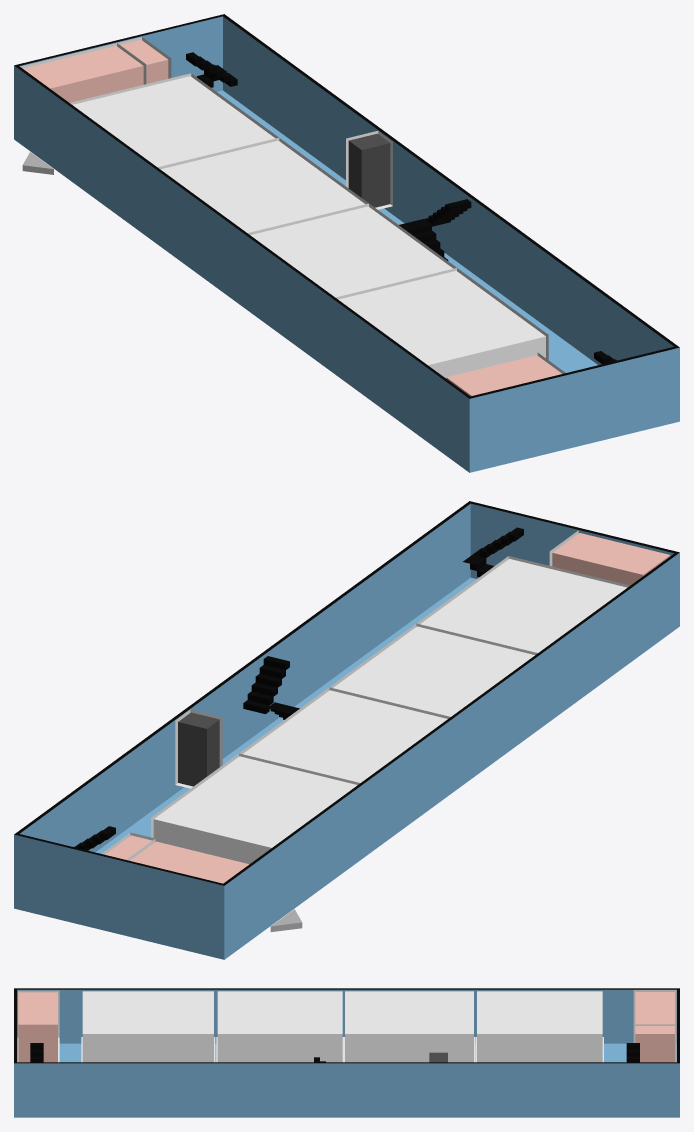
3 renders of one model, top to bottom at view 1: azimuth 30°, elevation 25°; view 2: azimuth 150°, elevation 25°; view 3: azimuth 270°, elevation 25°, orthographic. The views are drawn at different scales.
Visible parts, largest first — view 1: object, room_8_1_1, room_8_1_3, room_8_1_4, room_8_1_2, トイレ_8_1_1, エレベーター_8_1_1, トイレ_8_1_2, 階段_8_1_3, トイレ_8_1_3, object_line.001, 階段_8_1_2 (+3 smaller); view 2: object, room_8_1_4, room_8_1_1, room_8_1_3, room_8_1_2, トイレ_8_1_2, エレベーター_8_1_1, トイレ_8_1_1, 階段_8_1_3, 階段_8_1_1, object_line.004, object_line.001 (+2 smaller); view 3: object, room_8_1_1, room_8_1_4, room_8_1_2, room_8_1_3, トイレ_8_1_2, トイレ_8_1_3, トイレ_8_1_1, object_line.005, 階段_8_1_1, 階段_8_1_2, object_line.008.
Part boxes in pixels (x1=…): object: x1=14, y1=14, x2=679, y2=472; room_8_1_1: x1=338, y1=271, x2=545, y2=376; room_8_1_3: x1=160, y1=140, x2=364, y2=232; room_8_1_4: x1=73, y1=76, x2=275, y2=167; room_8_1_2: x1=250, y1=206, x2=452, y2=297; トイレ_8_1_1: x1=23, y1=46, x2=143, y2=102; エレベーター_8_1_1: x1=348, y1=133, x2=390, y2=207; トイレ_8_1_2: x1=446, y1=355, x2=561, y2=396; 階段_8_1_3: x1=399, y1=199, x2=471, y2=260; トイレ_8_1_3: x1=120, y1=40, x2=168, y2=83; object_line.001: x1=335, y1=268, x2=548, y2=359; 階段_8_1_2: x1=186, y1=52, x2=237, y2=87; object: x1=14, y1=501, x2=679, y2=959; room_8_1_4: x1=153, y1=756, x2=357, y2=861; room_8_1_1: x1=420, y1=559, x2=626, y2=652; room_8_1_3: x1=243, y1=690, x2=447, y2=782; room_8_1_2: x1=333, y1=626, x2=534, y2=716; トイレ_8_1_2: x1=552, y1=533, x2=670, y2=585; エレベーター_8_1_1: x1=178, y1=712, x2=219, y2=786; トイレ_8_1_1: x1=130, y1=841, x2=248, y2=883; 階段_8_1_3: x1=243, y1=656, x2=299, y2=719; 階段_8_1_1: x1=463, y1=527, x2=523, y2=577; object_line.004: x1=151, y1=753, x2=360, y2=837; object_line.001: x1=417, y1=556, x2=629, y2=624; object: x1=14, y1=988, x2=679, y2=1117; room_8_1_1: x1=82, y1=991, x2=213, y2=1062; room_8_1_4: x1=477, y1=991, x2=602, y2=1062; room_8_1_2: x1=217, y1=991, x2=342, y2=1062; room_8_1_3: x1=345, y1=991, x2=473, y2=1062; トイレ_8_1_2: x1=18, y1=992, x2=57, y2=1062; トイレ_8_1_3: x1=635, y1=1026, x2=674, y2=1062; トイレ_8_1_1: x1=635, y1=992, x2=674, y2=1024; object_line.005: x1=17, y1=990, x2=59, y2=1062; 階段_8_1_1: x1=30, y1=1043, x2=43, y2=1062; 階段_8_1_2: x1=626, y1=1043, x2=639, y2=1062; object_line.008: x1=633, y1=990, x2=676, y2=1024.
Bounding box in the file's own units: 0.7679 × 0.2289 × 2.47.
